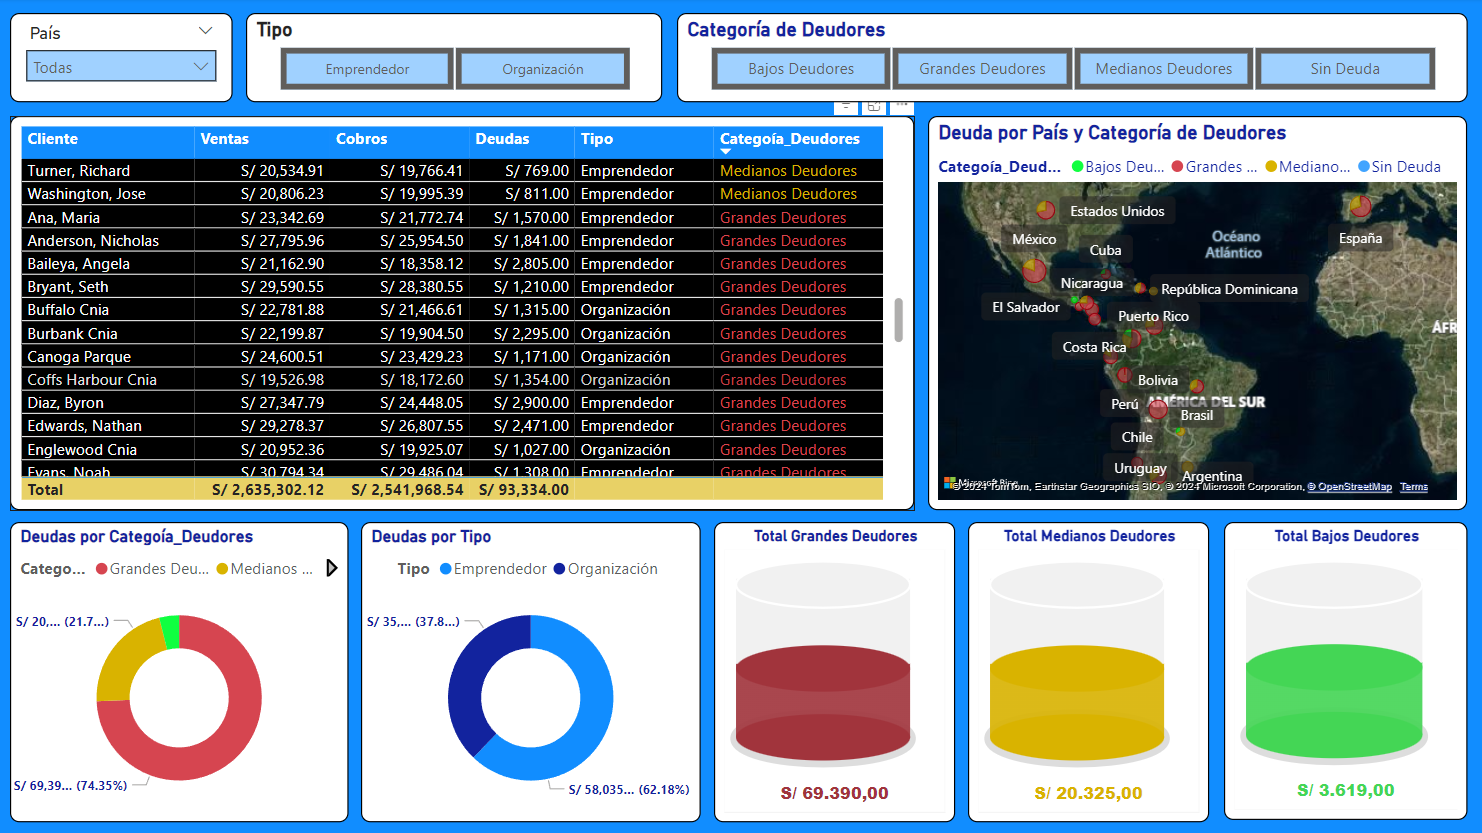

Layout of this report page (visuals, bound fields, positions):
{"tool":"powerbi","page":{"name":"DASHBOARD 2","canvas":[1280,720],"ordinal":1},"visuals":[{"type":"slicer","title":"País","fields":{"Values":["TablaClientes.País"]},"box":[9.7,12.6,191.6,76.8],"z":0},{"type":"slicer","title":"Tipo","fields":{"Values":["TablaClientes.Tipo"]},"box":[213,12.6,358.9,76.8],"z":1000},{"type":"tableEx","fields":{"Values":["TablaClientes.Cliente","Operaciones_Tablas.Ventas","Operaciones_Tablas.Cobros","Operaciones_Tablas.Deudas","TablaClientes.Tipo","TablaClientes.Categoía_Deudores"]},"box":[9.7,102.1,780.1,340.4],"z":2000},{"type":"slicer","title":"Categoría de Deudores","fields":{"Values":["TablaClientes.Categoía_Deudores"]},"box":[584.6,12.6,681.8,76.8],"z":3000},{"type":"map","title":"Deuda por País y Categoría de Deudores","fields":{"Category":["TablaClientes.País"],"Size":["Operaciones_Tablas.Deudas"],"Series":["TablaClientes.Categoía_Deudores"]},"box":[801.5,102.1,464.9,340.4],"z":4000},{"type":"donutChart","fields":{"Category":["TablaClientes.Categoía_Deudores"],"Y":["Operaciones_Tablas.Deudas"]},"box":[9.7,452.3,291.8,258.7],"z":5000},{"type":"donutChart","fields":{"Y":["Operaciones_Tablas.Deudas"],"Category":["TablaClientes.Tipo"]},"box":[312.2,452.3,292.8,258.7],"z":6000},{"type":"cylindricalGauge73A12A442345453EB69B593649C3A341","title":"Total Grandes Deudores","fields":{"Values":["Operaciones_Tablas.Deudas"]},"box":[616.7,452.3,208.1,258.7],"z":7000},{"type":"cylindricalGauge73A12A442345453EB69B593649C3A341","title":"Total Medianos Deudores","fields":{"Values":["Operaciones_Tablas.Deudas"]},"box":[835.5,452.3,208.1,258.7],"z":8000},{"type":"cylindricalGauge73A12A442345453EB69B593649C3A341","title":"Total Bajos Deudores","fields":{"Values":["Operaciones_Tablas.Deudas"]},"box":[1056.3,452.3,210.1,256.8],"z":9000}]}

Visuals, with their boxes in screenshot pixels (x1, y1, x2, y2), scaled from the page's 1280x720 canvas onto the 1482x833 screenshot:
"País" slicer: detection(11, 15, 233, 103)
"Tipo" slicer: detection(247, 15, 662, 103)
tableEx - TablaClientes.Cliente x Operaciones_Tablas.Ventas: detection(11, 118, 914, 512)
"Categoría de Deudores" slicer: detection(677, 15, 1466, 103)
"Deuda por País y Categoría de Deudores" map: detection(928, 118, 1466, 512)
donutChart - TablaClientes.Categoía_Deudores x Operaciones_Tablas.Deudas: detection(11, 523, 349, 823)
donutChart - Operaciones_Tablas.Deudas x TablaClientes.Tipo: detection(361, 523, 700, 823)
"Total Grandes Deudores" cylindricalGauge73A12A442345453EB69B593649C3A341: detection(714, 523, 955, 823)
"Total Medianos Deudores" cylindricalGauge73A12A442345453EB69B593649C3A341: detection(967, 523, 1208, 823)
"Total Bajos Deudores" cylindricalGauge73A12A442345453EB69B593649C3A341: detection(1223, 523, 1466, 820)
